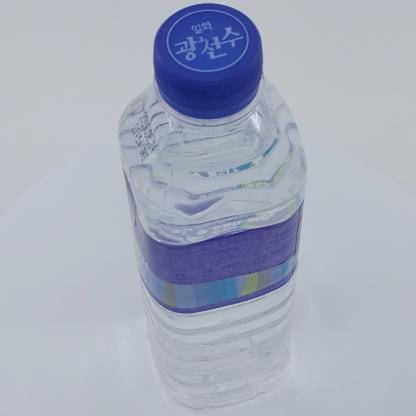----------500ML: (118, 3, 307, 408)
